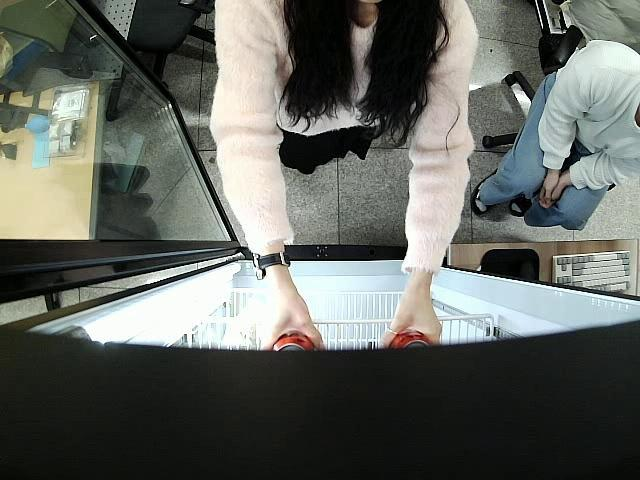11_cocaColaZero: (270, 330, 319, 352), (391, 327, 434, 350)
